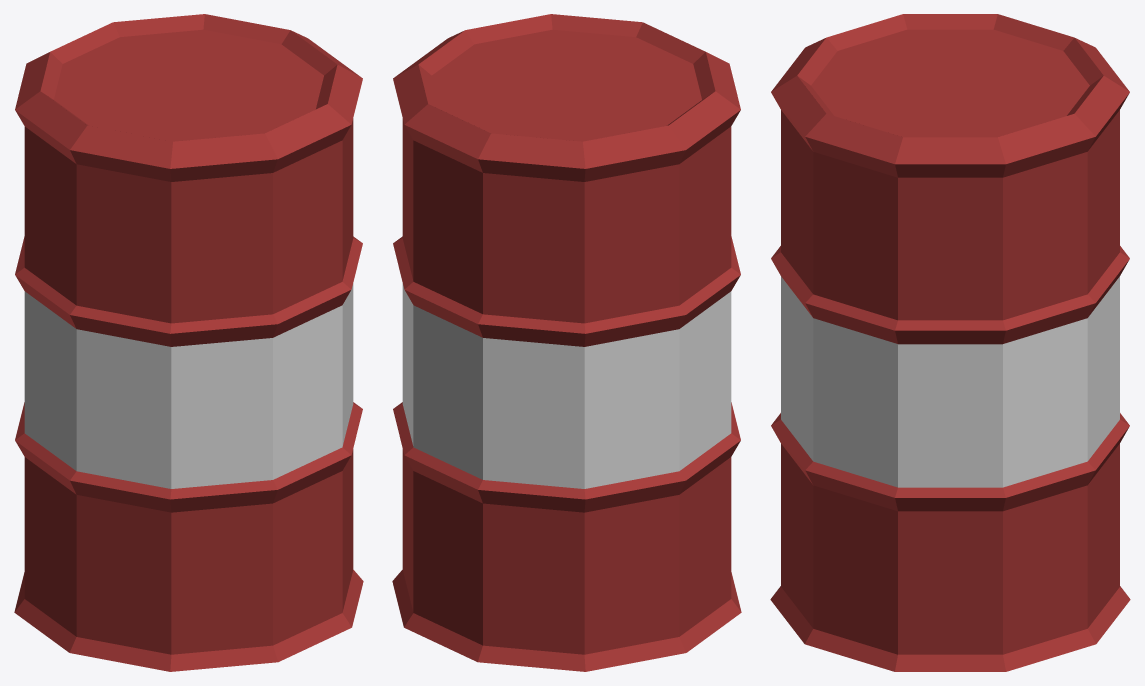
The model's file is Barril.fbx.
The picture shows the model from 3 angles, left to right: view 1: azimuth 30°, elevation 25°; view 2: azimuth 150°, elevation 25°; view 3: azimuth 270°, elevation 25°; orthographic projection.
Visible parts, largest first — view 1: Cylinder.007; view 2: Cylinder.007; view 3: Cylinder.007.
Boxes of the visible parts, x1,y1,x2,y2 form: Cylinder.007: (14, 14, 363, 671); Cylinder.007: (392, 14, 741, 671); Cylinder.007: (770, 14, 1130, 671).
Size of the model in its own units: 152 by 256 by 159.
